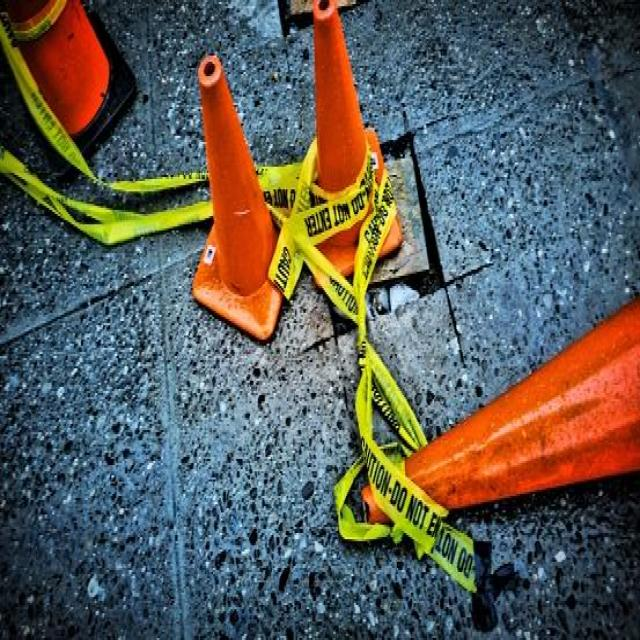Cone: (348, 282, 640, 525), (298, 2, 402, 292), (192, 52, 286, 334), (1, 2, 132, 181)
